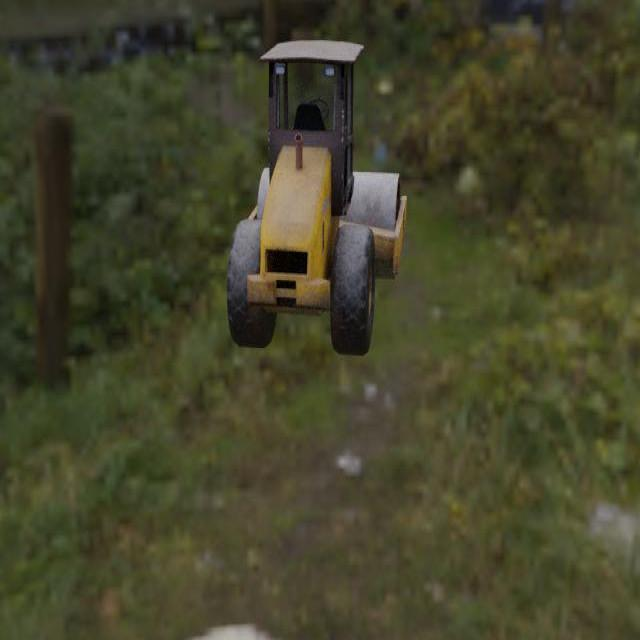Roller: (226, 39, 407, 356)
